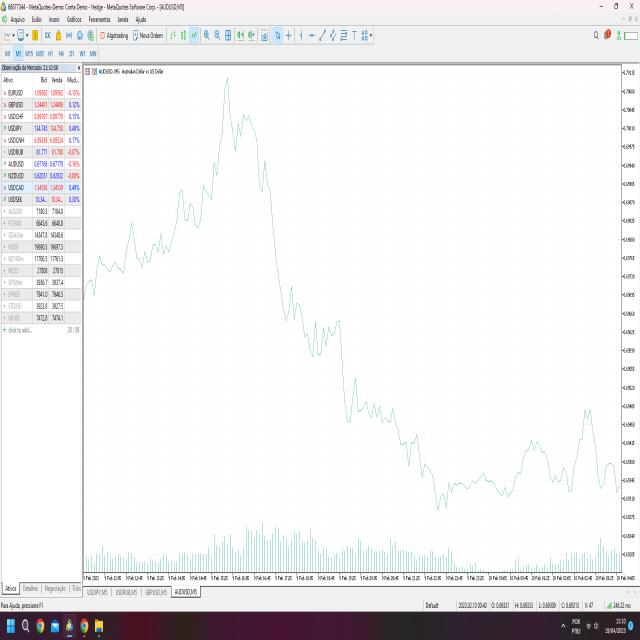bandeira_baixa: (262, 134, 341, 367)
